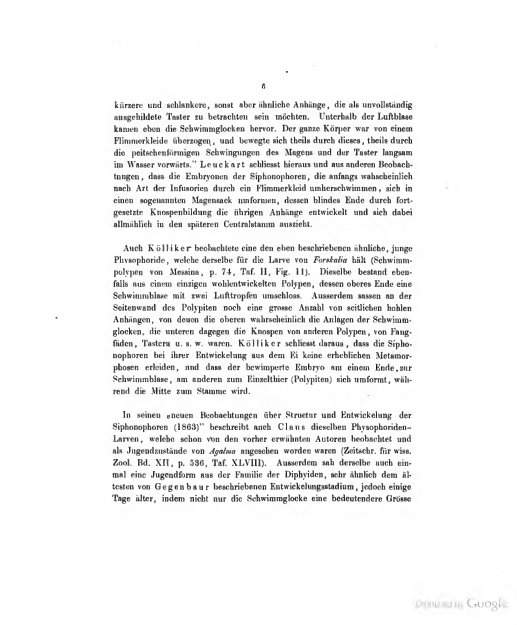MainZone: (100, 91, 423, 513)
NoiseZone: (409, 589, 517, 625)
NumberingZone_page: (254, 78, 272, 94)
